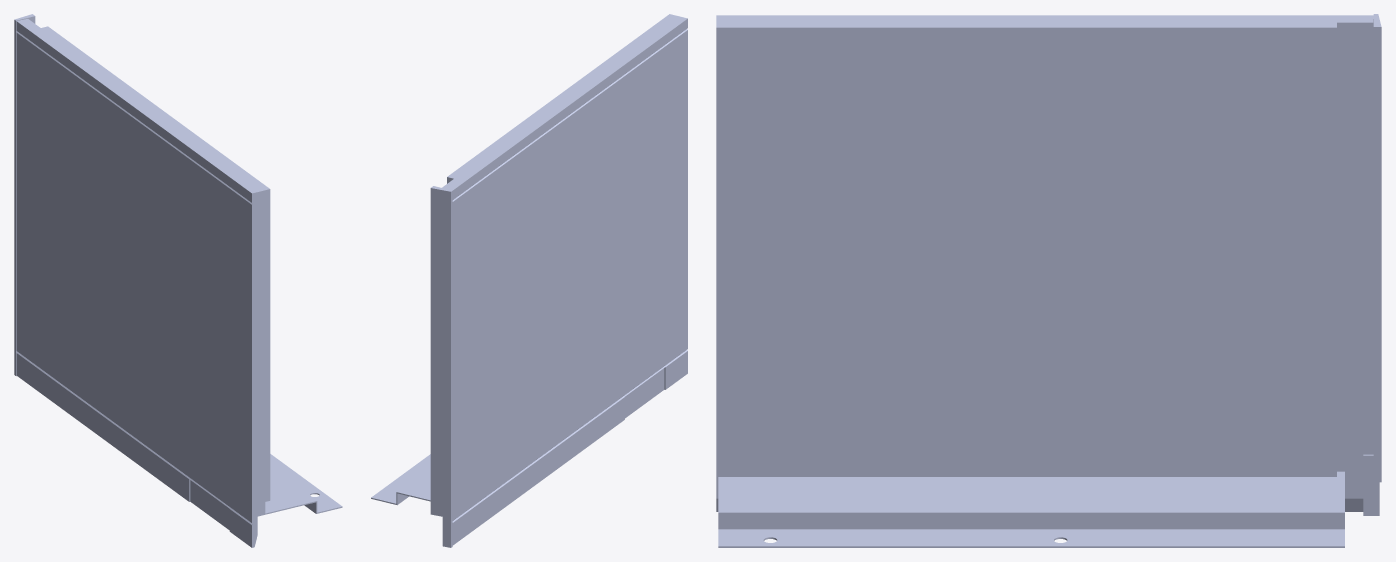
File: lg-kava-F300-p.glb
3 renders of one model, left to right at view 1: azimuth 30°, elevation 25°; view 2: azimuth 150°, elevation 25°; view 3: azimuth 270°, elevation 25°, orthographic. The views are drawn at different scales.
Parts seen in each view (by area): view 1: 42273042; view 2: 42273042; view 3: 42273042.
Part boxes in pixels (x1=…): 42273042: x1=14, y1=14, x2=342, y2=547; 42273042: x1=371, y1=14, x2=687, y2=547; 42273042: x1=716, y1=14, x2=1381, y2=547.
Bounding box in the file's own units: 0.0653 × 0.2417 × 0.2935.
